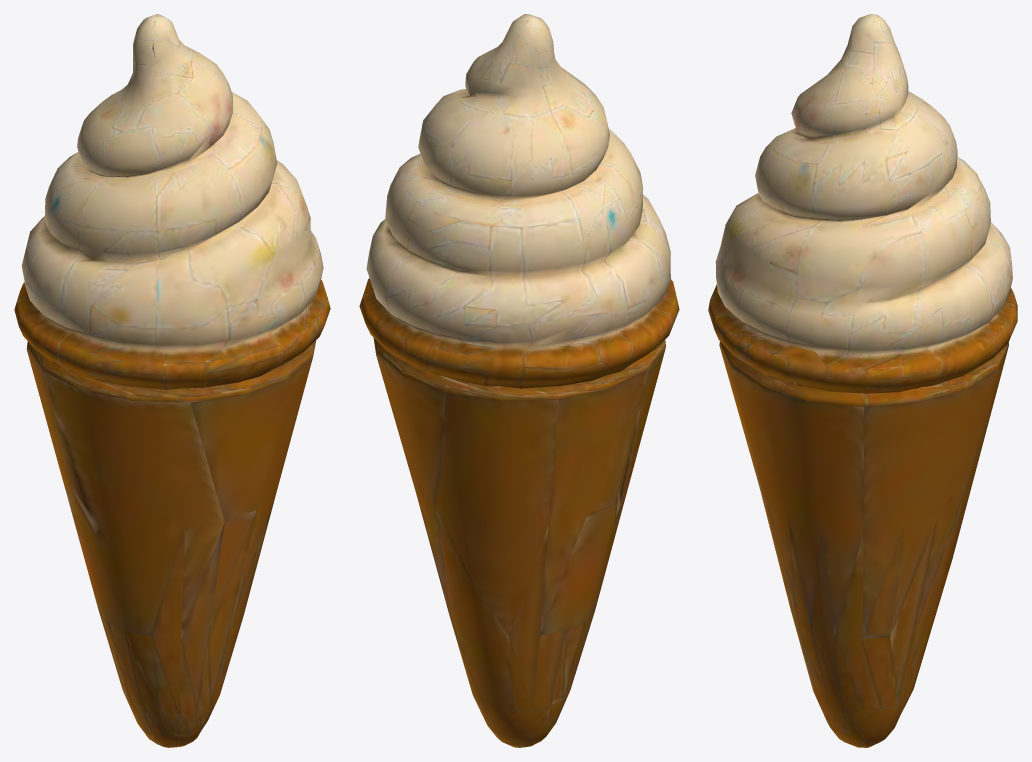
The model's file is ice-cream-cone.glb.
3 renders of one model, left to right at view 1: azimuth 30°, elevation 25°; view 2: azimuth 150°, elevation 25°; view 3: azimuth 270°, elevation 25°, orthographic.
Parts seen in each view (by area): view 1: geometry_0; view 2: geometry_0; view 3: geometry_0.
Part boxes in pixels (x1=…): geometry_0: x1=14, y1=14, x2=330, y2=747; geometry_0: x1=359, y1=14, x2=679, y2=747; geometry_0: x1=708, y1=14, x2=1017, y2=747.
Bounding box in the file's own units: 0.3975 × 0.9995 × 0.3888.
1 material, 1 textured.
